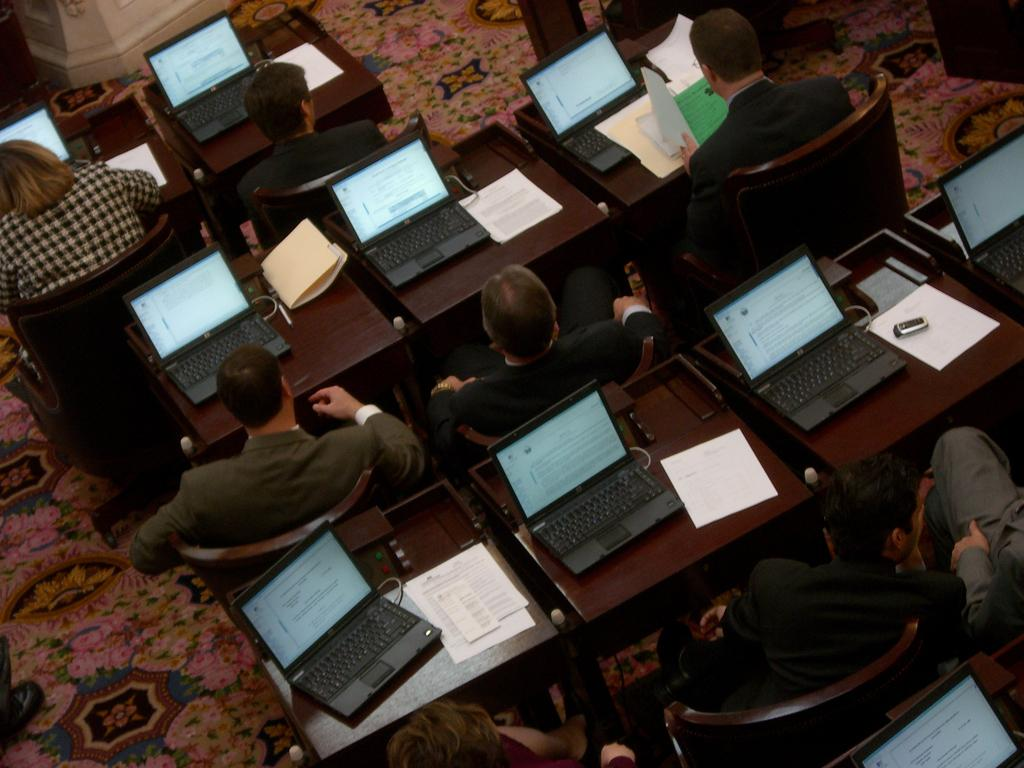Laptop: (231, 520, 441, 717), (732, 223, 919, 440), (488, 380, 684, 577), (122, 244, 292, 405), (326, 130, 488, 289), (522, 26, 645, 177), (852, 663, 1023, 767), (143, 12, 255, 143), (937, 125, 1023, 292), (1, 101, 91, 163)
